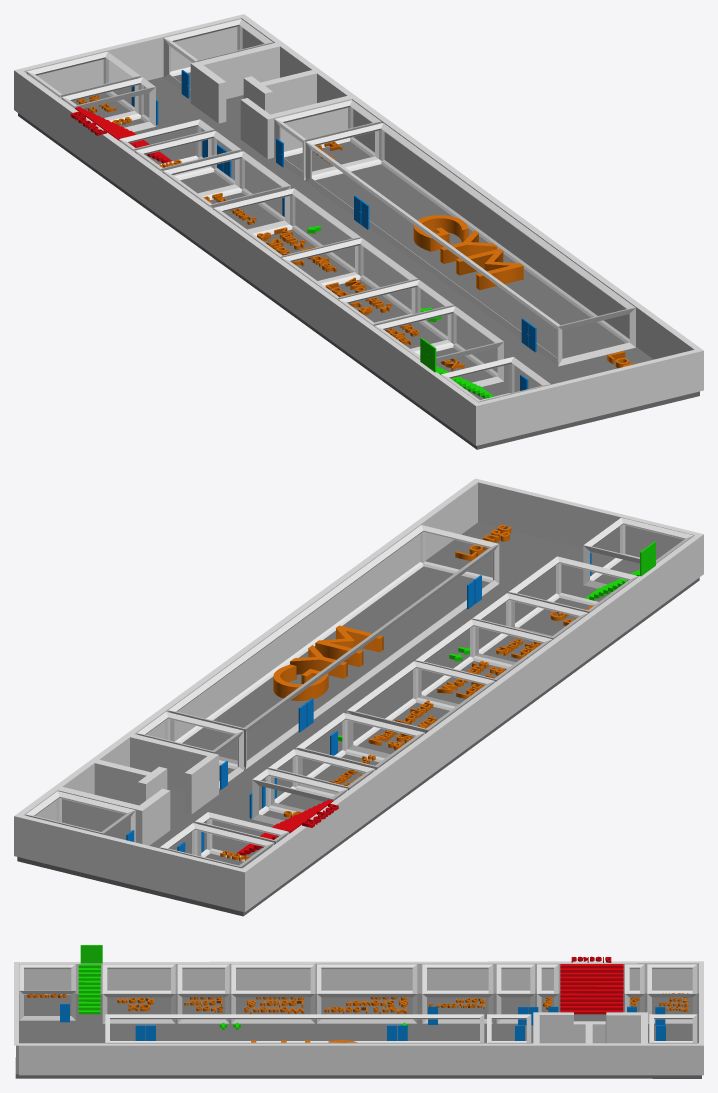
3 views of the same model, one above another, from view 1: azimuth 30°, elevation 25°; view 2: azimuth 150°, elevation 25°; view 3: azimuth 270°, elevation 25° (orthographic). The views are drawn at different scales.
Parts seen in each view (by area): view 1: Wall, Floor, B101, Text, B101.008, B101.001, B101.007, B101.011, B101.009, B101.006, B101.004, B101.002 (+7 smaller); view 2: Wall, Floor, B101, Text, B101.008, B101.009, B101.007, B101.011, B101.012, B101.005, B101.010, B101.006 (+7 smaller); view 3: Wall, Floor, B101, Stair2.001, B101.008, B101.009, B101.011, B101.007, B101.010, B101.003, B101.012, Stair2 (+15 smaller).
Boxes of the visible parts, x1,y1,x2,y2 form: Wall: [14, 14, 703, 445]; Floor: [18, 72, 699, 449]; B101: [305, 123, 635, 366]; Text: [413, 215, 523, 290]; B101.008: [213, 188, 361, 283]; B101.001: [274, 100, 381, 180]; B101.007: [162, 151, 290, 233]; B101.011: [374, 306, 503, 390]; B101.009: [281, 238, 418, 323]; B101.006: [135, 131, 241, 196]; B101.004: [61, 77, 155, 131]; B101.002: [163, 19, 273, 96]; Wall: [14, 478, 703, 912]; Floor: [17, 522, 699, 916]; B101: [168, 525, 499, 769]; Text: [273, 625, 383, 700]; B101.008: [347, 661, 495, 758]; B101.009: [415, 619, 552, 706]; B101.007: [296, 713, 424, 794]; B101.011: [508, 556, 638, 636]; B101.012: [583, 517, 694, 588]; B101.005: [252, 769, 347, 824]; B101.010: [472, 593, 588, 664]; B101.006: [268, 749, 375, 812]; Wall: [14, 961, 703, 1075]; Floor: [15, 993, 701, 1078]; B101: [105, 1014, 484, 1043]; Stair2.001: [560, 964, 623, 1014]; B101.008: [317, 964, 417, 1023]; B101.009: [231, 964, 315, 1023]; B101.011: [102, 964, 175, 1023]; B101.007: [422, 964, 493, 1023]; B101.010: [177, 964, 229, 1023]; B101.003: [647, 964, 697, 1023]; B101.012: [19, 964, 75, 1020]; Stair2: [78, 964, 100, 1014].
Bounding box in the file's own units: 2.38 × 0.6721 × 8.04.
